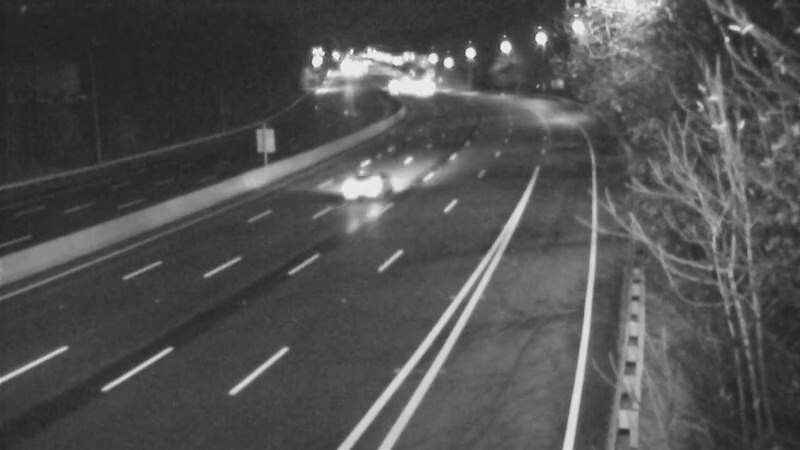vehicle: (323, 145, 403, 225)
